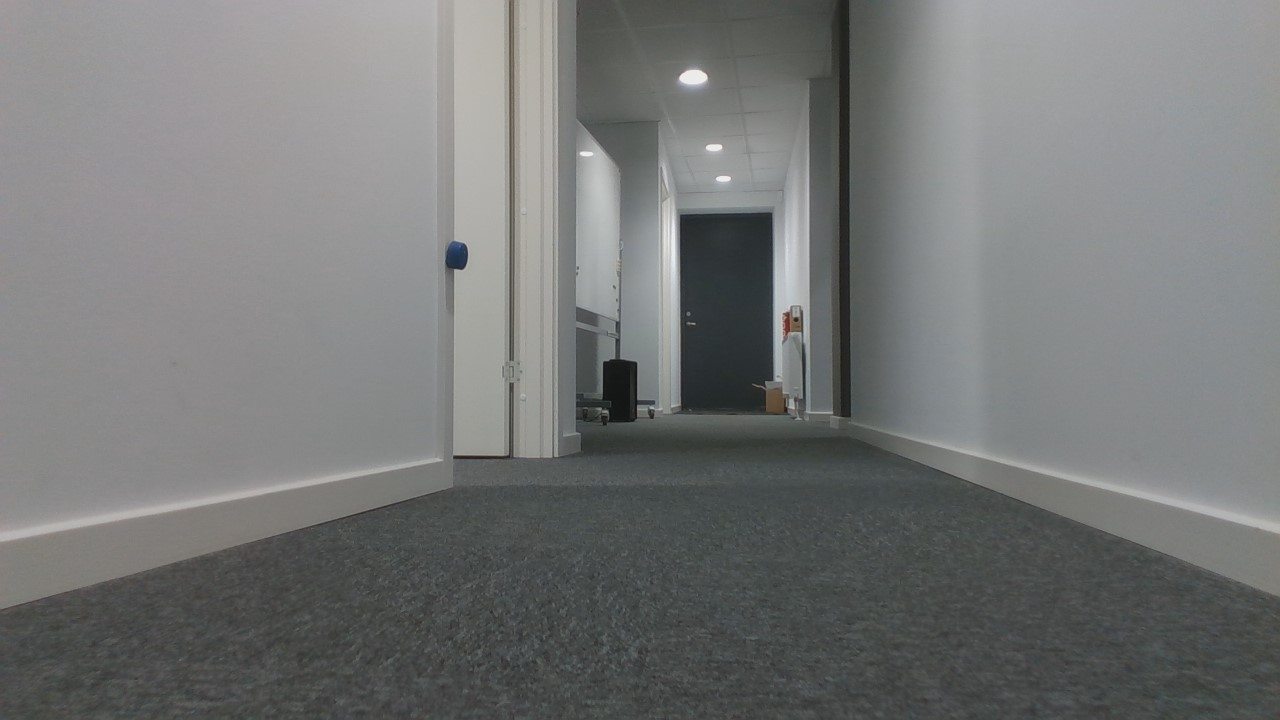alfa: (444, 240, 473, 269)
